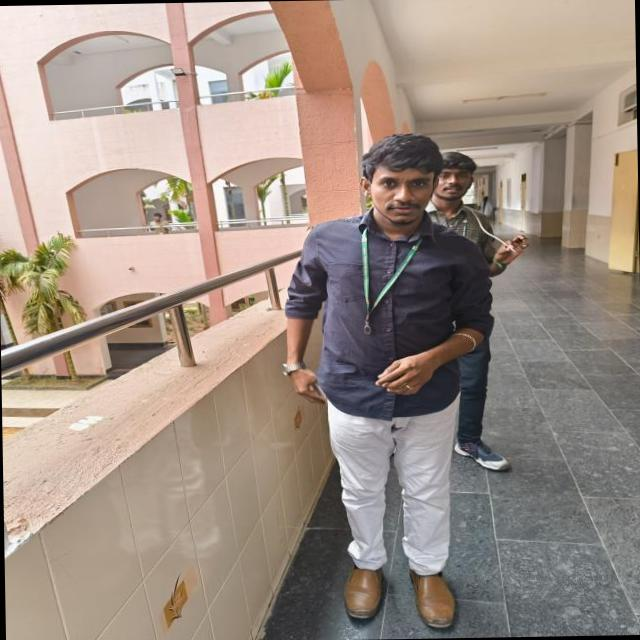id_card: (354, 218, 421, 340)
